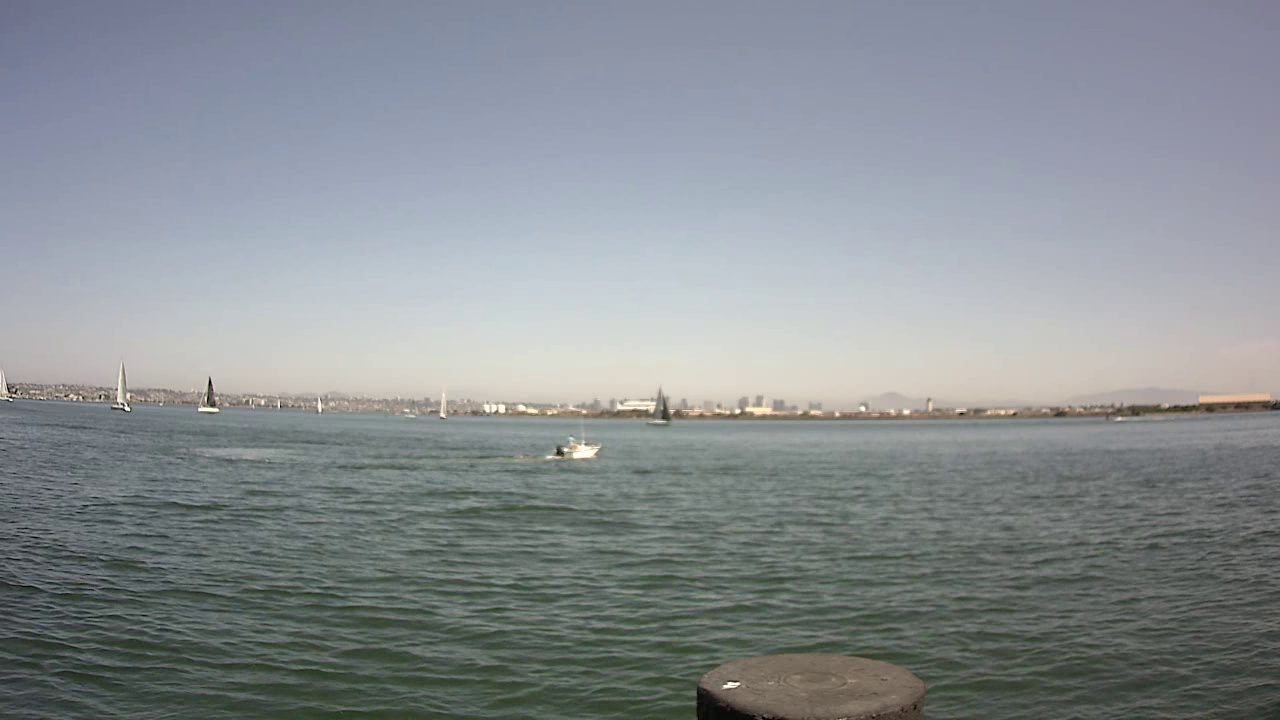target: (546, 426, 605, 463)
